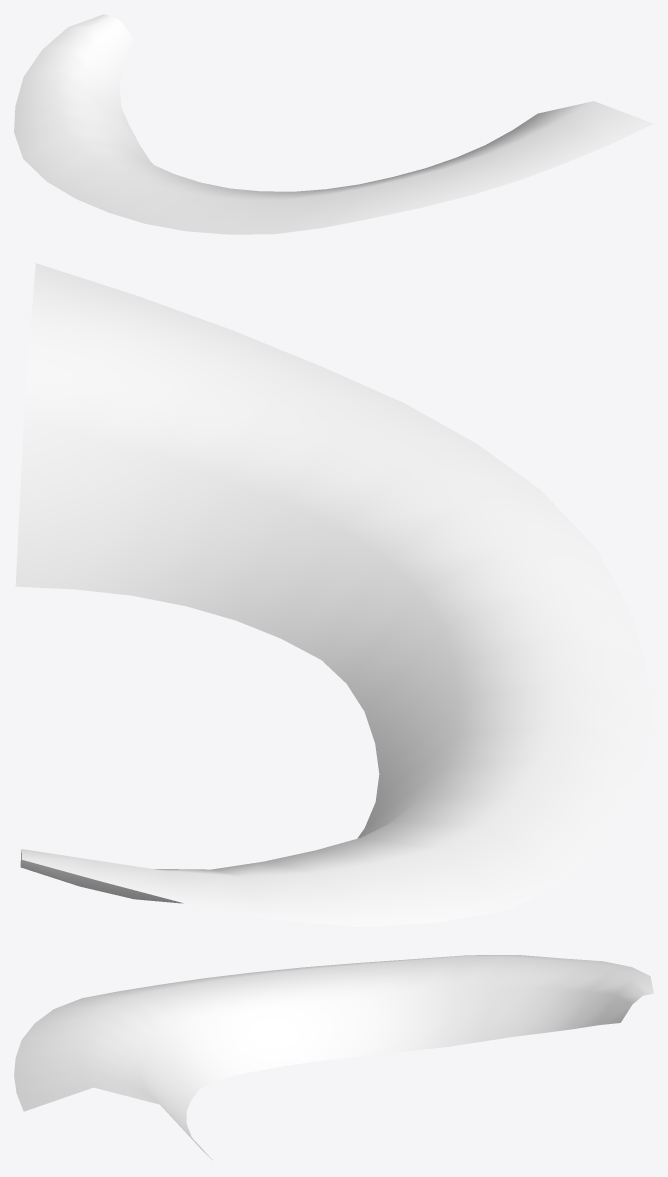
The model's file is VFX_PlayerAttack.fbx.
3 renders of one model, top to bottom at view 1: azimuth 30°, elevation 25°; view 2: azimuth 150°, elevation 25°; view 3: azimuth 270°, elevation 25°, orthographic. The views are drawn at different scales.
Visible parts, largest first — view 1: vfx_attack; view 2: vfx_attack; view 3: vfx_attack.
Boxes of the visible parts, box(x1,y1,x2,y2) form: vfx_attack: box(14, 14, 653, 234); vfx_attack: box(15, 263, 652, 926); vfx_attack: box(14, 955, 653, 1160).
Bounding box in the file's own units: 755 × 182 × 850.
